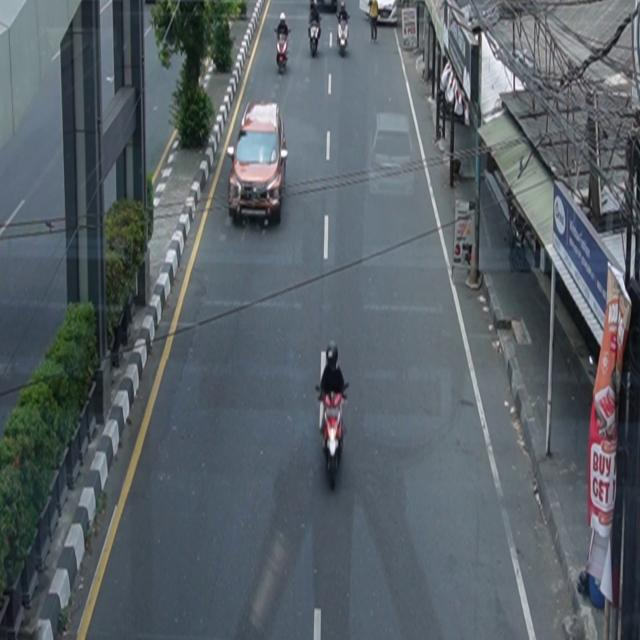car: (228, 101, 289, 227)
